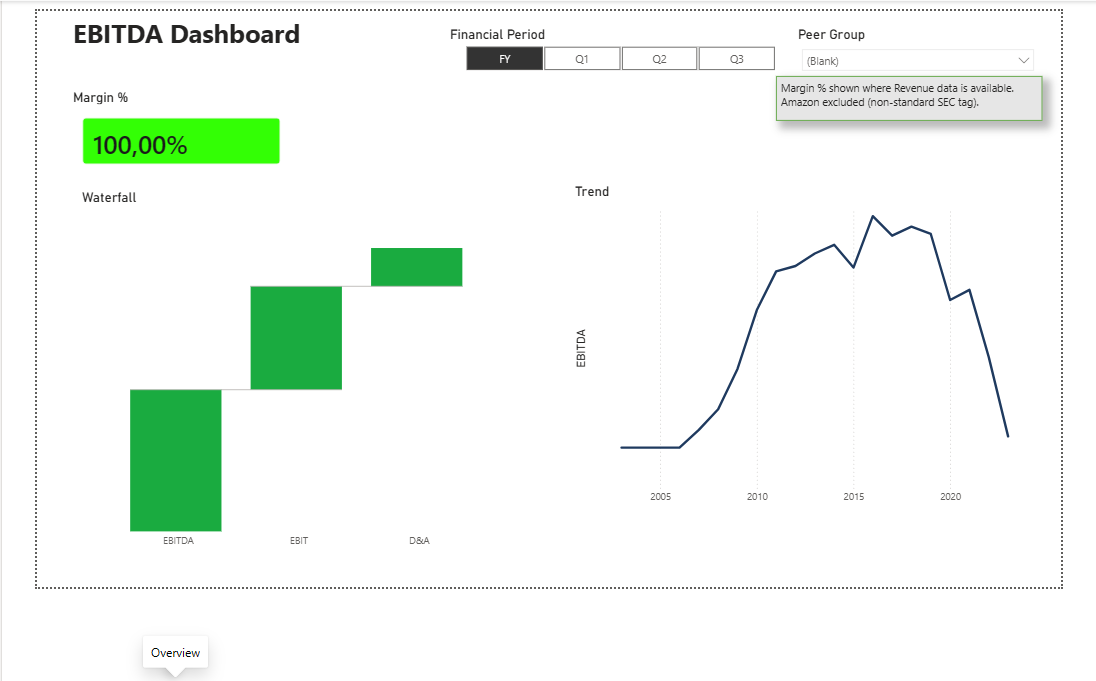

The page's visual inventory and layout, read from the dashboard file:
{"tool":"powerbi","page":{"name":"Overview","canvas":[1280,720],"ordinal":0},"visuals":[{"type":"waterfallChart","title":"Waterfall","fields":{"Category":["_EBITDA_Build.Component"],"Y":["_Measures.Build Value"]},"box":[39.7,247.2,583.9,399.1],"z":0},{"type":"cardVisual","title":"Margin %","fields":{"Data":["_Measures.EBITDA Margin %1","select"]},"box":[59,127,281.2,111.1],"z":1000},{"type":"slicer","title":"Financial Period","fields":{"Values":["fct_company_period.fp"]},"box":[1002.5,15,263.8,62.5],"z":2000},{"type":"lineChart","title":"Trend","fields":{"Category":["dim_date.year"],"Y":["_Measures.EBITDA"]},"box":[640.6,247.2,606.6,382.1],"z":3000},{"type":"textbox","box":[39.6,0,319.3,54.1],"z":4000},{"type":"slicer","title":"Peer Group","fields":{"Values":["dim_company.peer_group"]},"box":[358.8,15,248.8,66.2],"z":5000},{"type":"textbox","box":[942.5,81.2,323.8,56.2],"z":6000},{"type":"listSlicer","title":"Company","fields":{"Values":["dim_company.entityname"]},"box":[623.8,15,300,225],"z":7000},{"type":"textbox","box":[373.8,665.8,466.2,40.4],"z":8000}]}

Visuals, with their boxes on the page's 1280x720 design canvas (x1, y1, x2, y2). These are canvas units, not pixel positions in the 1096x681 screenshot, which may show the page scaled, cropped or inside an application window:
"Waterfall" waterfallChart: rect(40, 247, 624, 646)
"Margin %" cardVisual: rect(59, 127, 340, 238)
"Financial Period" slicer: rect(1002, 15, 1266, 78)
"Trend" lineChart: rect(641, 247, 1247, 629)
textbox: rect(40, 0, 359, 54)
"Peer Group" slicer: rect(359, 15, 608, 81)
textbox: rect(942, 81, 1266, 137)
"Company" listSlicer: rect(624, 15, 924, 240)
textbox: rect(374, 666, 840, 706)
